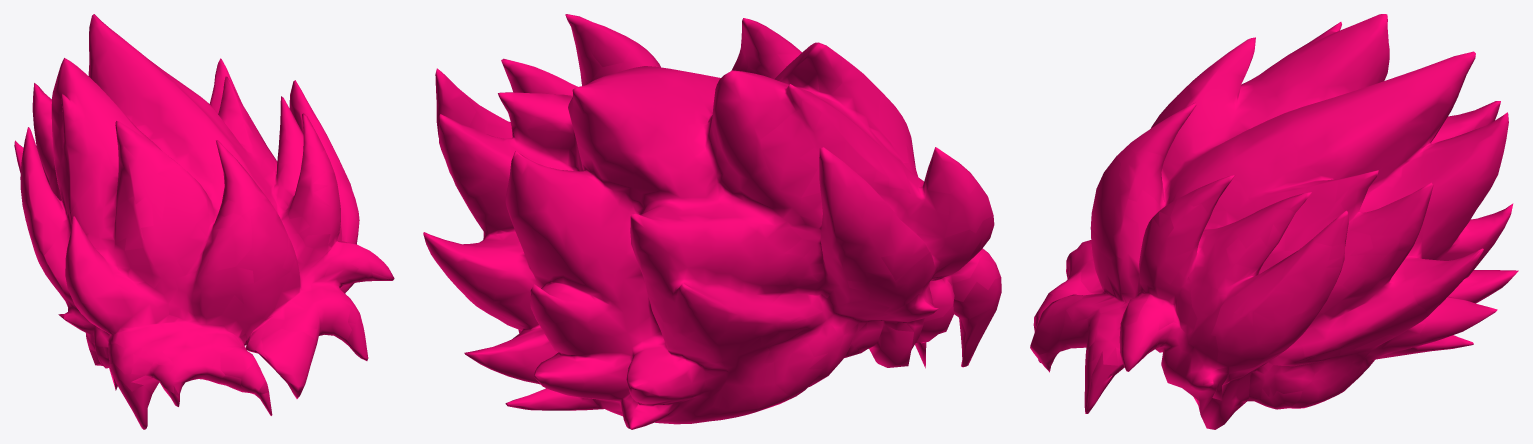
The model's file is Spikey-Hair-Rose.glb.
The picture shows the model from 3 angles, left to right: view 1: azimuth 30°, elevation 25°; view 2: azimuth 150°, elevation 25°; view 3: azimuth 270°, elevation 25°; orthographic projection. The views are drawn at different scales.
Visible parts, largest first — view 1: Spikey-Hair-Rose; view 2: Spikey-Hair-Rose; view 3: Spikey-Hair-Rose.
Part boxes in pixels (x1,y1,x2,y2): Spikey-Hair-Rose: (14, 14, 394, 429); Spikey-Hair-Rose: (423, 14, 1001, 429); Spikey-Hair-Rose: (1030, 14, 1518, 429).
Bounding box in the file's own units: 0.6436 × 0.5401 × 0.7335.
1 material, 1 textured.
